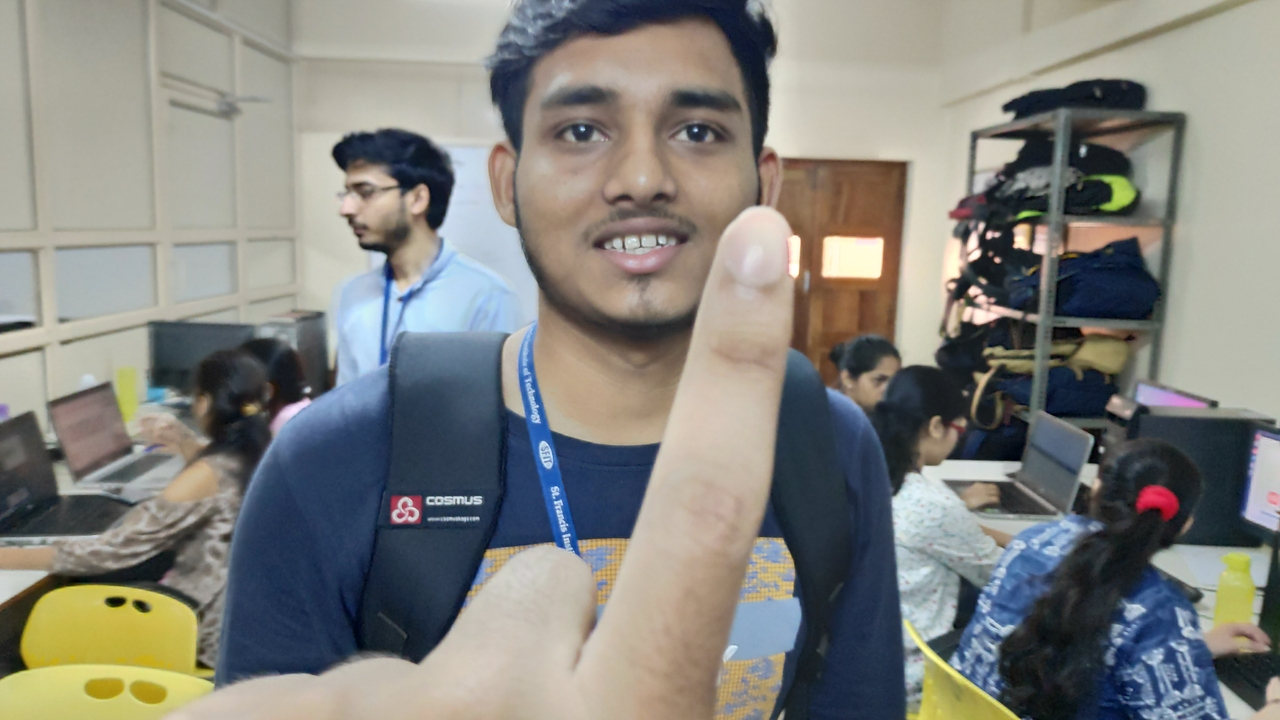fingertip: (709, 206, 800, 290)
